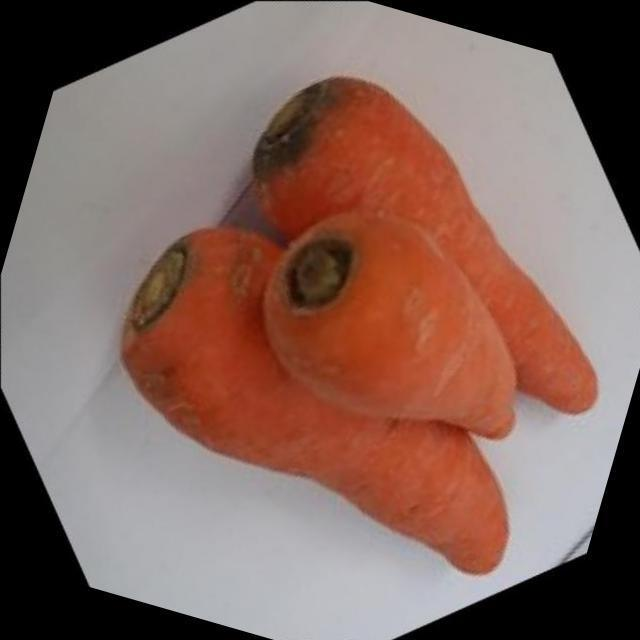carrot: (122, 225, 512, 573), (254, 78, 594, 411), (264, 214, 519, 438)
